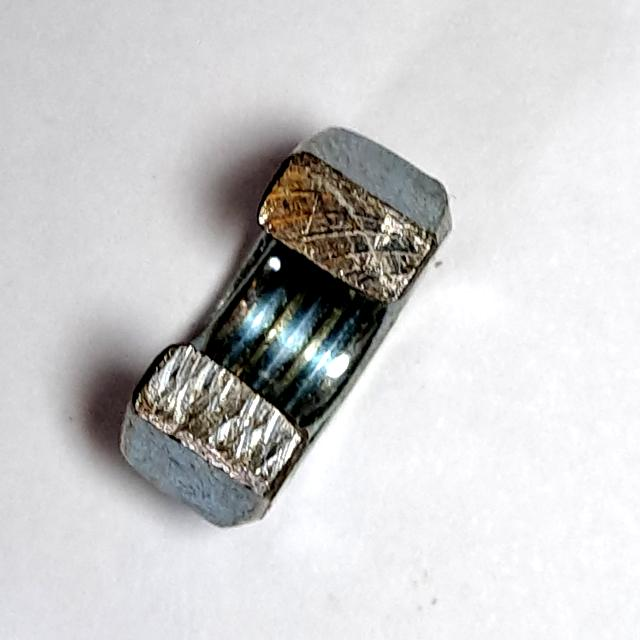Side-Fracture: (115, 119, 466, 539)
